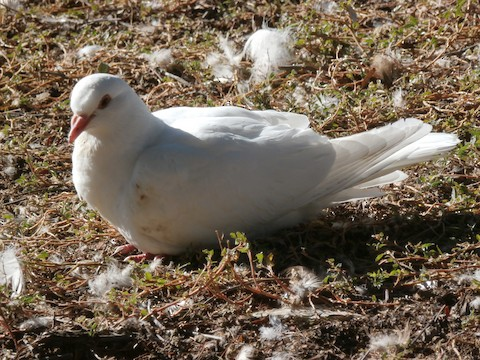pigeon: (62, 62, 461, 268)
